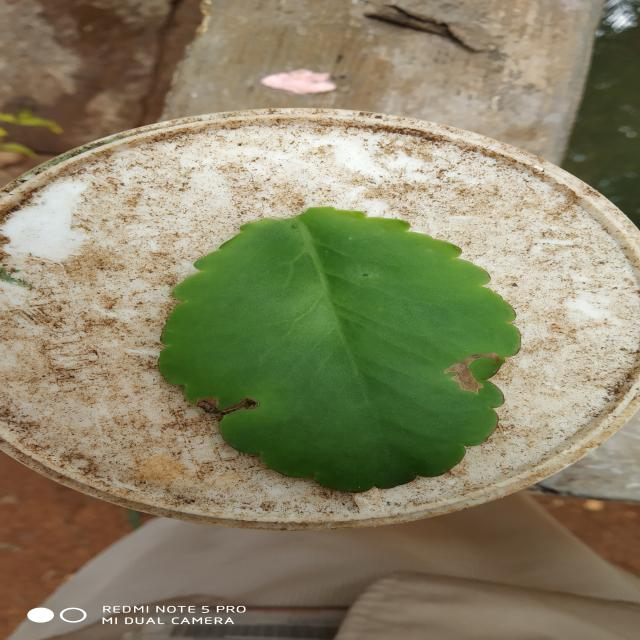defectedspinach: (160, 339, 293, 454), (444, 352, 504, 392)
tamarind: (158, 208, 520, 492)
